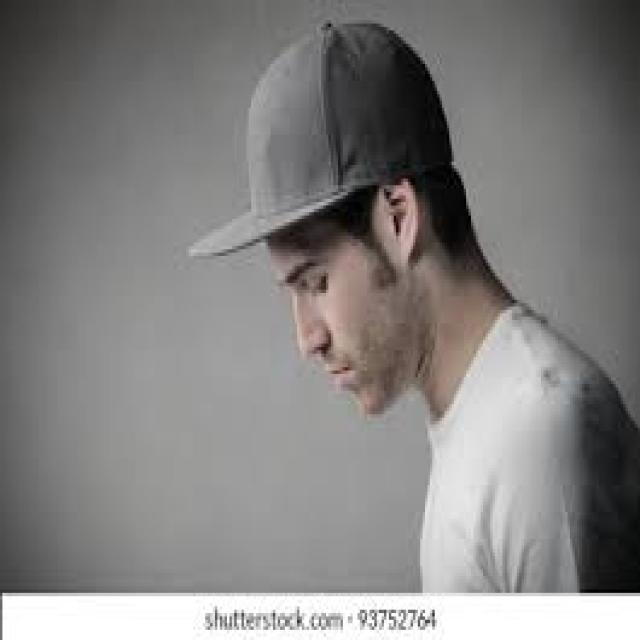3_gorra: (181, 20, 453, 260)
